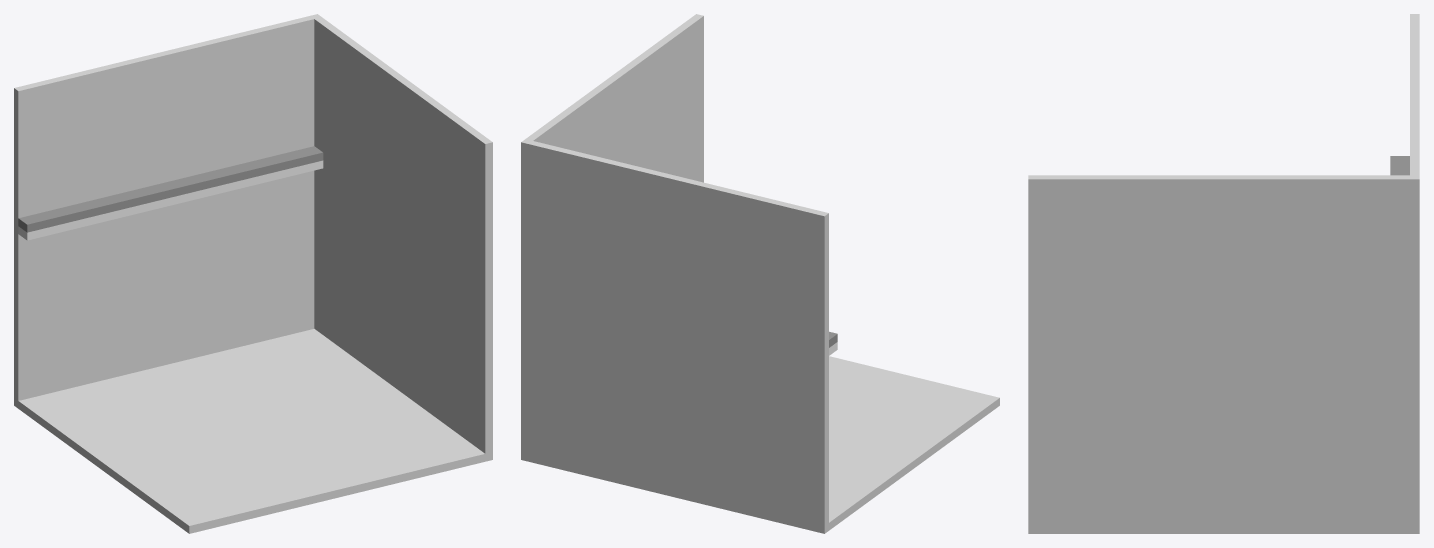
File: Wall_Corner(Ver_1).obj
The picture shows the model from 3 angles, left to right: view 1: azimuth 30°, elevation 25°; view 2: azimuth 150°, elevation 25°; view 3: azimuth 270°, elevation 25°; orthographic projection. The views are drawn at different scales.
Bounding box in the file's own units: 4 × 4 × 4.
1 material, 1 textured.
